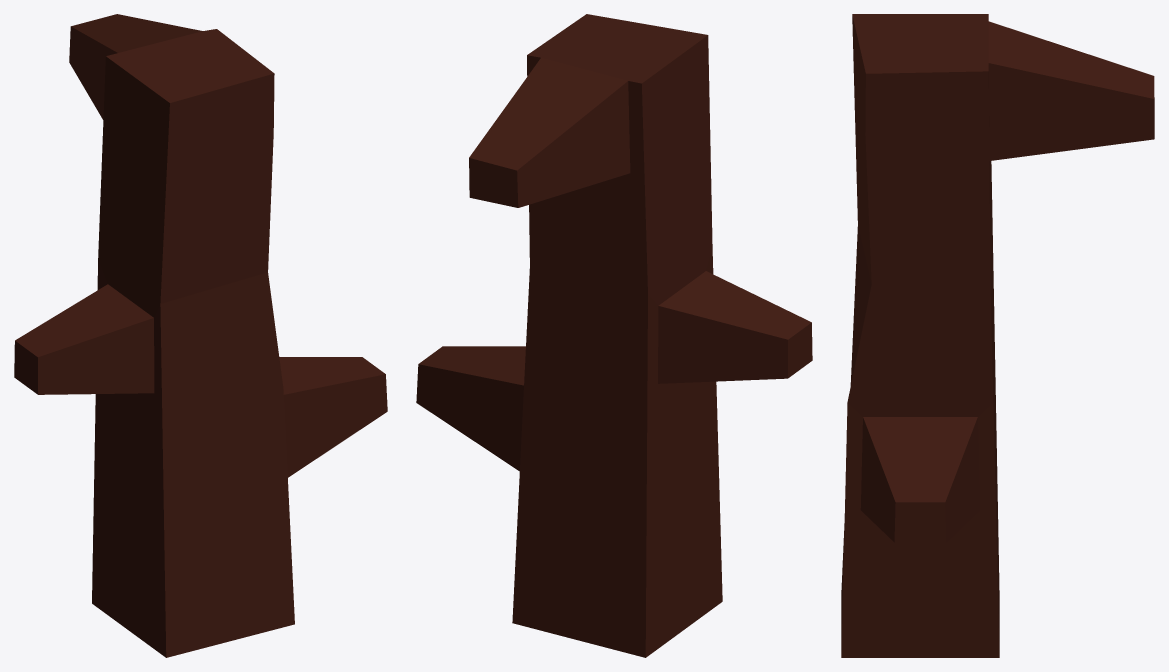
File: treelog_1a.fbx
3 renders of one model, left to right at view 1: azimuth 30°, elevation 25°; view 2: azimuth 150°, elevation 25°; view 3: azimuth 270°, elevation 25°, orthographic. The views are drawn at different scales.
Visible parts, largest first — view 1: treelog_1a; view 2: treelog_1a; view 3: treelog_1a.
Boxes of the visible parts, box(x1,y1,x2,y2) form: treelog_1a: box(14, 14, 387, 657); treelog_1a: box(416, 14, 812, 657); treelog_1a: box(841, 14, 1154, 657).
Bounding box in the file's own units: 137 × 204 × 99.02.
